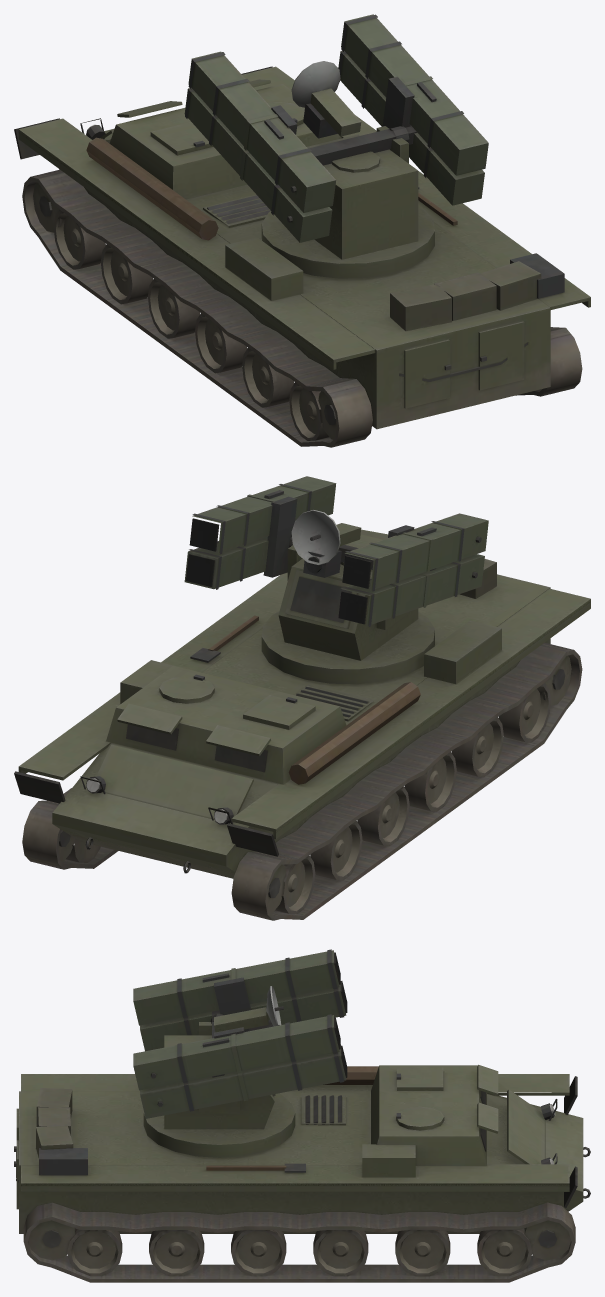
Rendered from sam_launcher.glb.
The picture shows the model from 3 angles, top to bottom: view 1: azimuth 30°, elevation 25°; view 2: azimuth 150°, elevation 25°; view 3: azimuth 270°, elevation 25°; orthographic projection. The views are drawn at different scales.
Visible parts, largest first — view 1: hull, launcher, turret; view 2: hull, launcher, turret; view 3: hull, launcher, turret.
Boxes of the visible parts, x1,y1,x2,y2 form: hull: [14, 66, 590, 447]; launcher: [184, 14, 488, 242]; turret: [261, 126, 434, 278]; hull: [14, 529, 590, 920]; launcher: [184, 476, 488, 626]; turret: [261, 534, 434, 684]; hull: [14, 1064, 590, 1282]; launcher: [133, 949, 347, 1118]; turret: [143, 1013, 295, 1157].
Size of the model in its own units: 2.9 by 3 by 6.47.
Materials: 1 (1 with a texture image).
